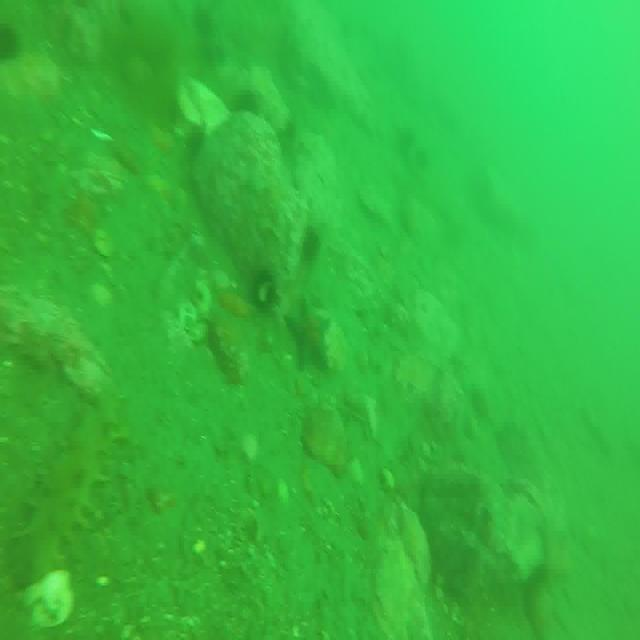echinus: (253, 263, 280, 314), (0, 26, 20, 62), (306, 219, 320, 267)
holothurian: (6, 402, 102, 603)
starfish: (291, 292, 332, 372)
